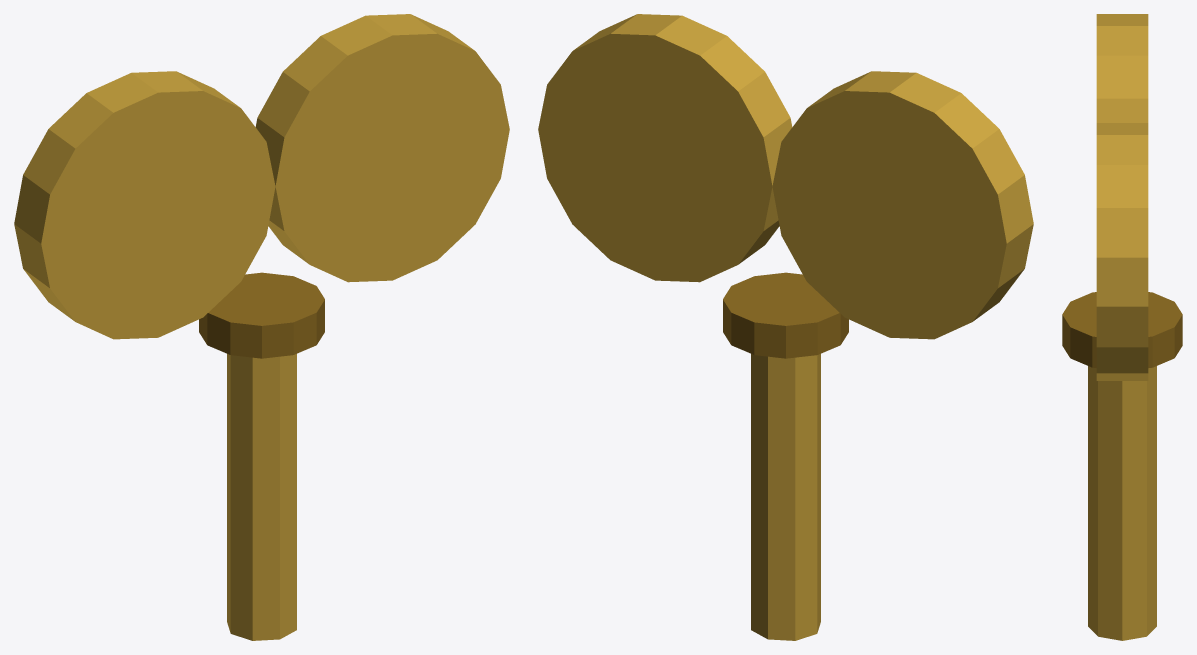
Rendered from windkey.glb.
The picture shows the model from 3 angles, left to right: view 1: azimuth 30°, elevation 25°; view 2: azimuth 150°, elevation 25°; view 3: azimuth 270°, elevation 25°; orthographic projection. The views are drawn at different scales.
Parts seen in each view (by area): view 1: windkey; view 2: windkey; view 3: windkey.
Part boxes in pixels (x1,y1,x2,y2): windkey: [14, 14, 509, 640]; windkey: [538, 14, 1033, 640]; windkey: [1062, 14, 1182, 640].
Bounding box in the file's own units: 0.6 × 0.7 × 0.14.
